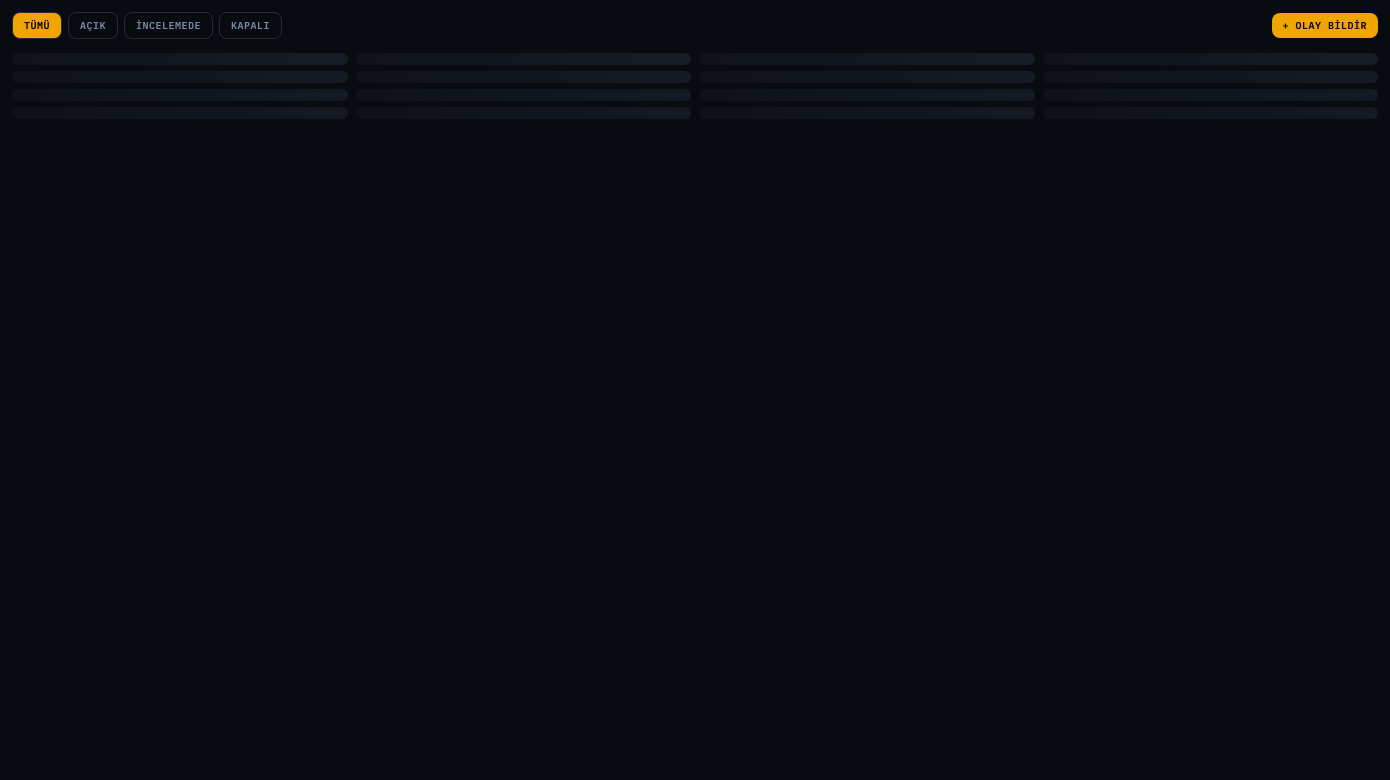
Scenario: IncidentsTab smoke › OLAY BİLDİR formu açılır, kritik şiddette bildirim uyarısı görünür
Click the button "+ OLAY BİLDİR": [1325, 26] box [1272, 13, 1378, 38]
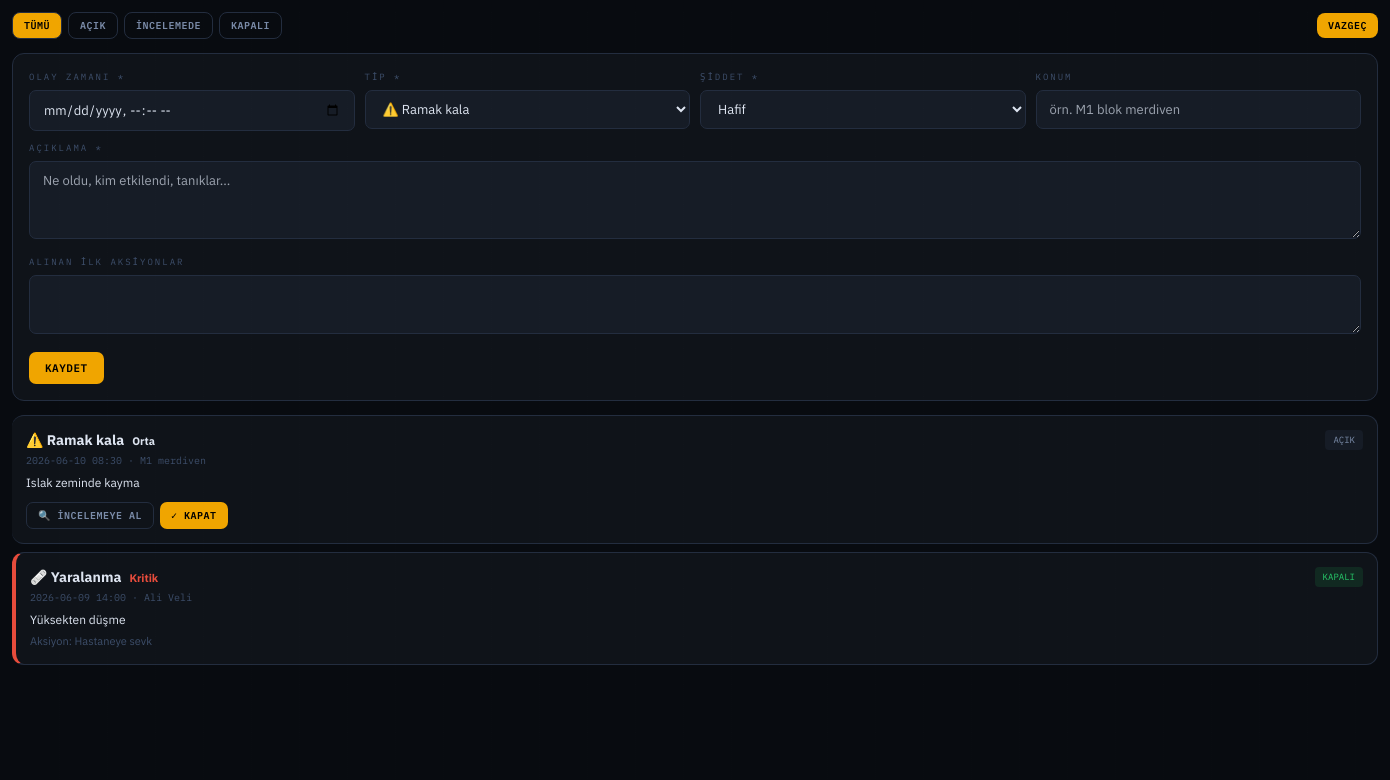
Check: the text "Olay zamanı *" is shown, box [29, 71, 125, 82]
Select "Kritik" in the dropdown showing "Hafif" below "Şiddet *": [863, 109] box [700, 90, 1026, 128]
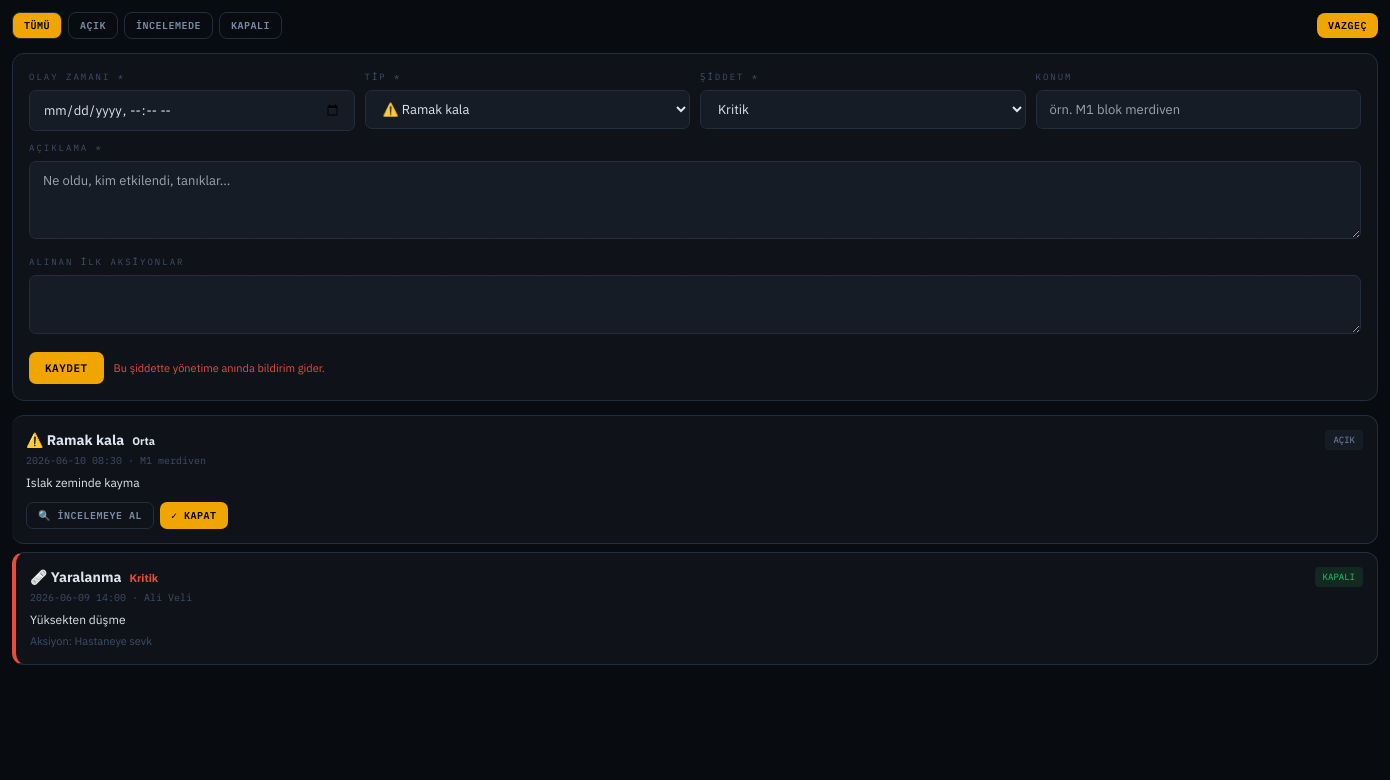
Check: the text "Bu şiddette yönetime anında bildirim gider." is shown, box [114, 360, 325, 374]
